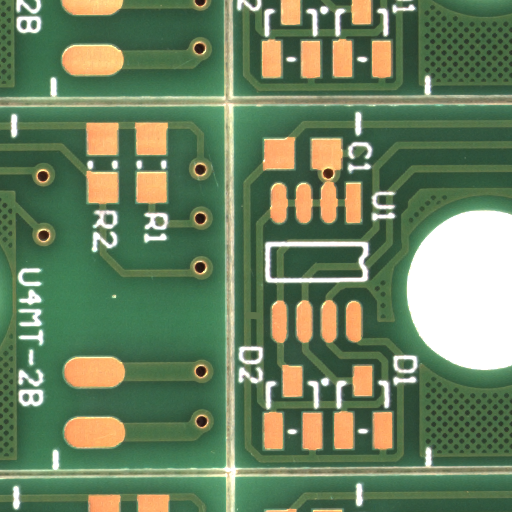Short: (253, 316, 267, 330)
